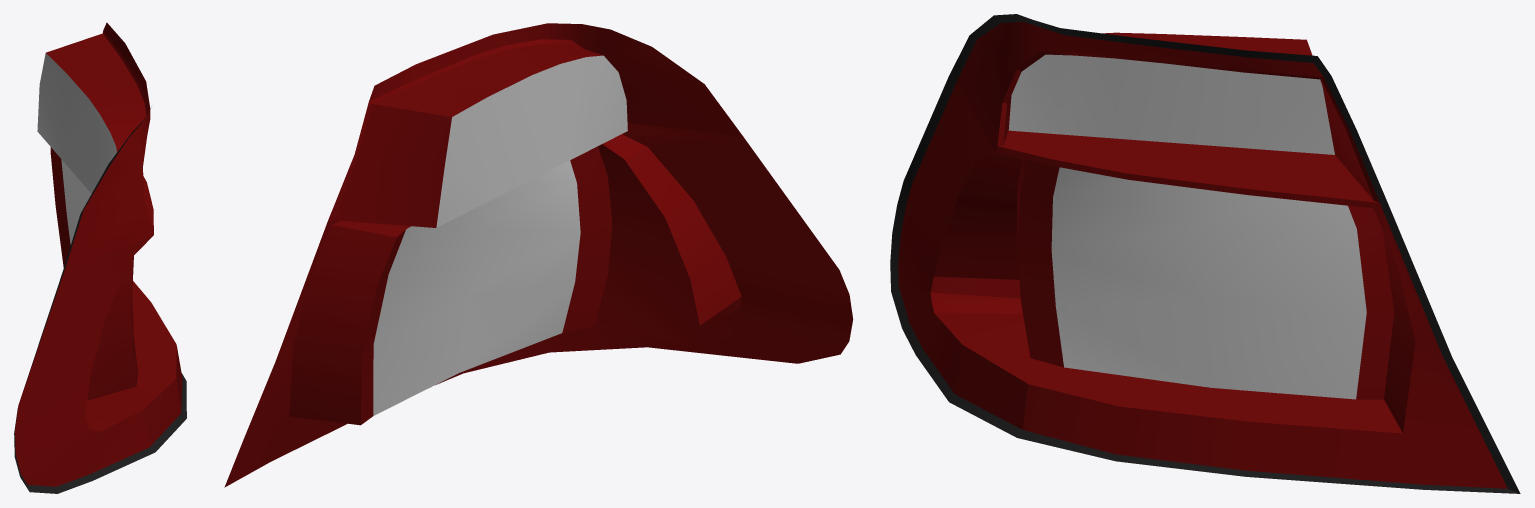
3 renders of one model, left to right at view 1: azimuth 30°, elevation 25°; view 2: azimuth 150°, elevation 25°; view 3: azimuth 270°, elevation 25°, orthographic. The views are drawn at different scales.
Visible parts, largest first — view 1: SubMesh0011; view 2: SubMesh0011; view 3: SubMesh0011.
Part boxes in pixels (box(x1,y1,x2,y2)): SubMesh0011: box(14, 22, 186, 493); SubMesh0011: box(224, 23, 853, 487); SubMesh0011: box(890, 14, 1520, 493).
Bounding box in the file's own units: 0.1949 × 0.188 × 0.2637.
